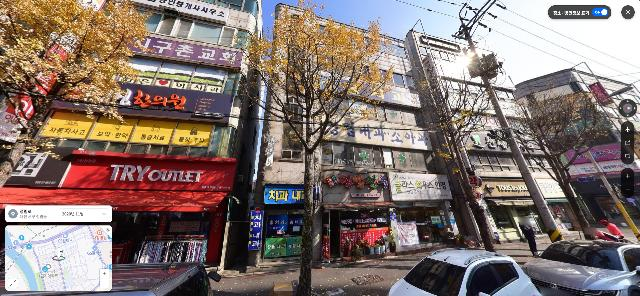ginkgo: (235, 0, 396, 296), (1, 0, 148, 168), (416, 39, 499, 256)
other: (513, 78, 625, 240)
